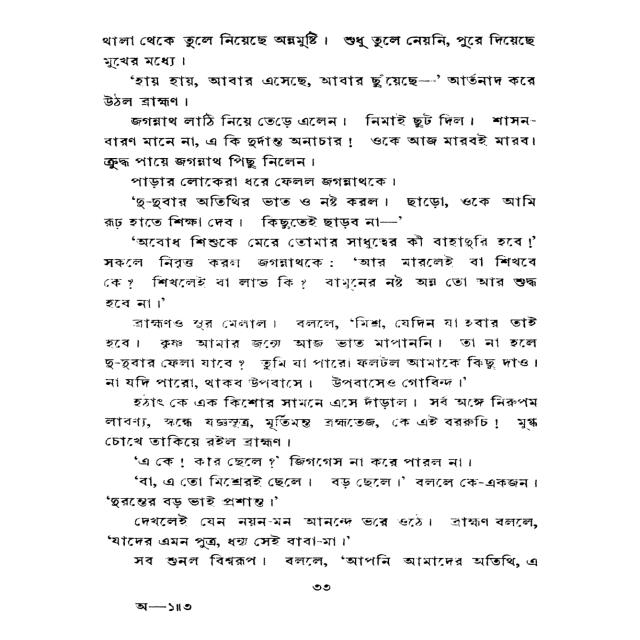page number: (307, 581, 346, 598)
paragraph: (90, 313, 551, 394), (92, 233, 556, 313), (90, 111, 555, 174), (87, 391, 551, 453), (97, 26, 551, 74), (97, 189, 550, 237), (95, 71, 549, 112), (100, 474, 545, 512), (104, 514, 550, 551), (126, 551, 558, 574), (127, 452, 480, 474), (127, 174, 400, 193)
text: (132, 597, 201, 615)
